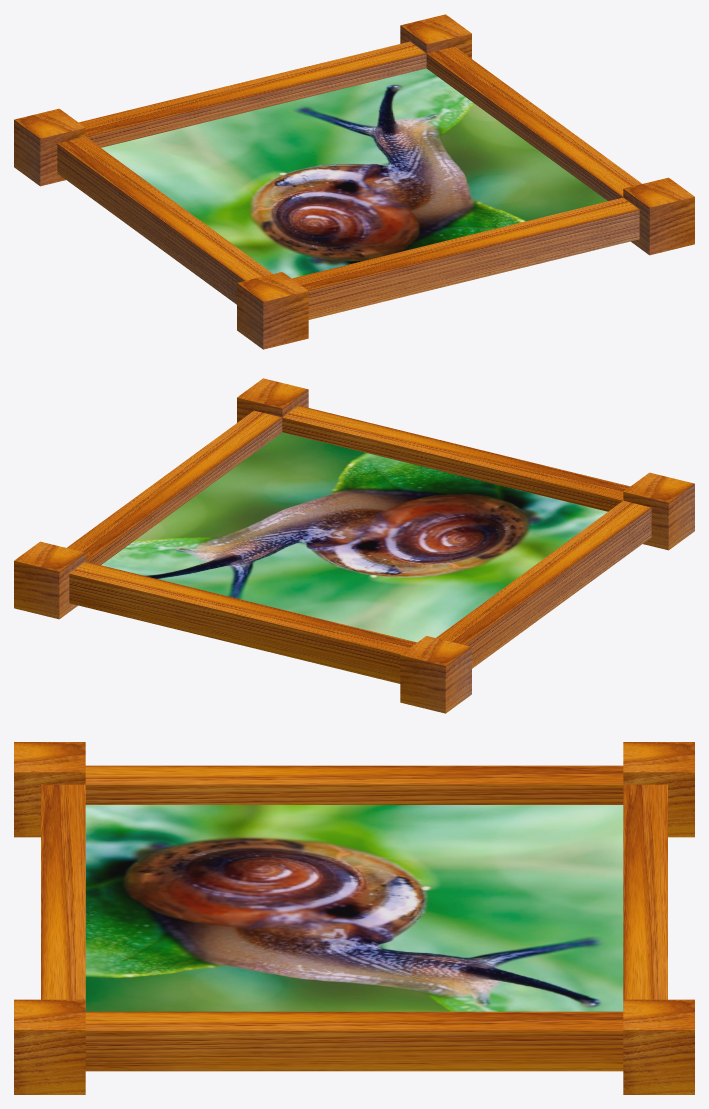
File: Caracol.fbx
The picture shows the model from 3 angles, top to bottom: view 1: azimuth 30°, elevation 25°; view 2: azimuth 150°, elevation 25°; view 3: azimuth 270°, elevation 25°; orthographic projection. The views are drawn at different scales.
Visible parts, largest first — view 1: Caracol; view 2: Caracol; view 3: Caracol.
Part boxes in pixels (<box>): Caracol: <box>14,14,694,349</box>; Caracol: <box>14,378,694,713</box>; Caracol: <box>14,742,694,1094</box>.
Bounding box in the file's own units: 76 × 8 × 76.
